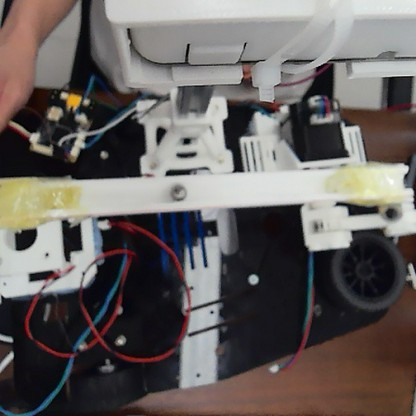ironball: (167, 180, 188, 202)
